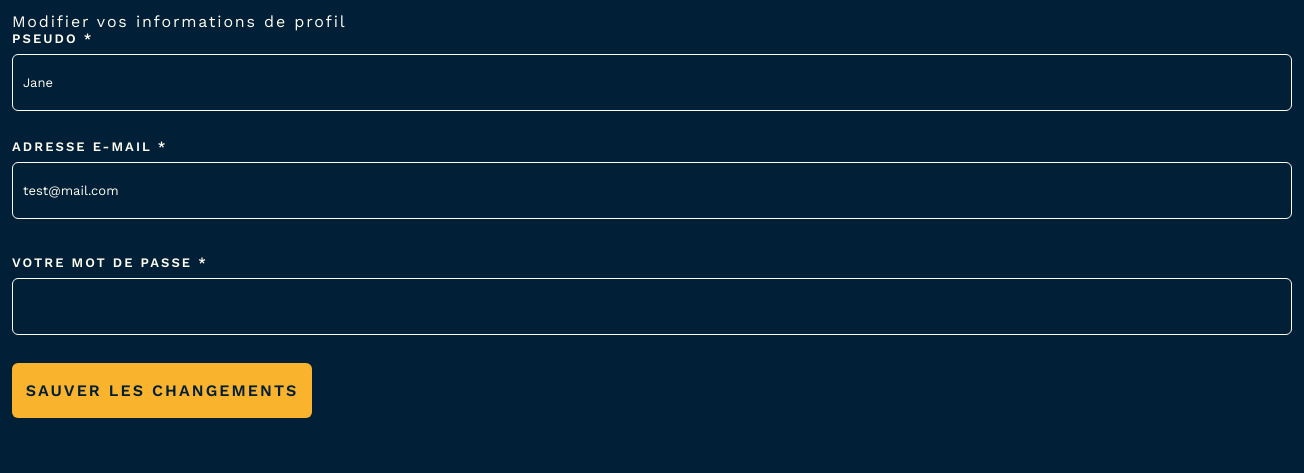
Test: UpdateProfileForm component tests › should set password error if password is incorrect
The width and height of the screenshot is (1304, 473).
Replace the text in the field labelled "Pseudo *" with "Barbie": [652, 82] box [12,54,1292,111]
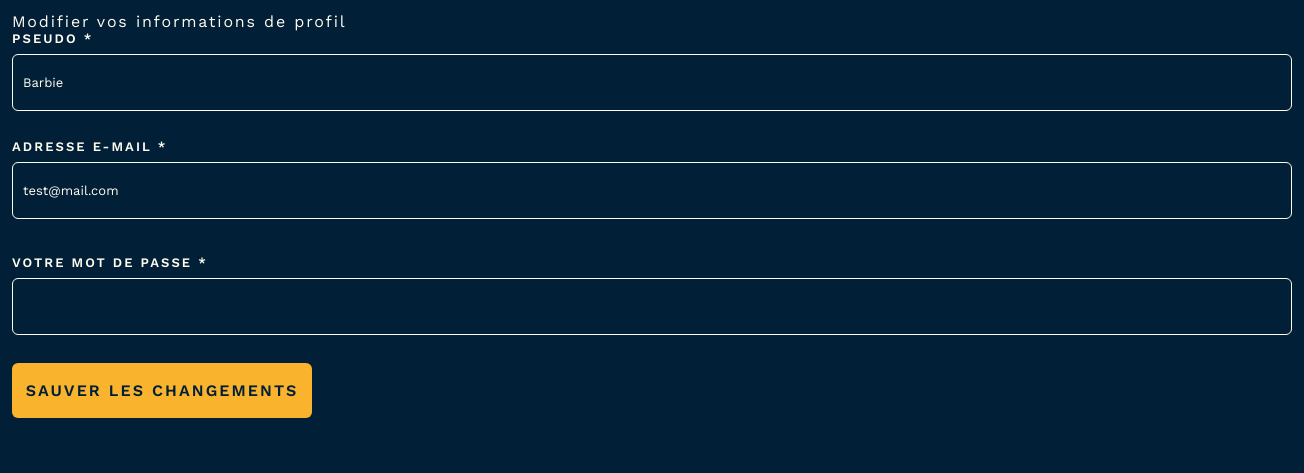
Replace the text in the field labelled "Adresse e-mail *" with "barbie@test.fr": [652, 190] box [12,162,1292,219]
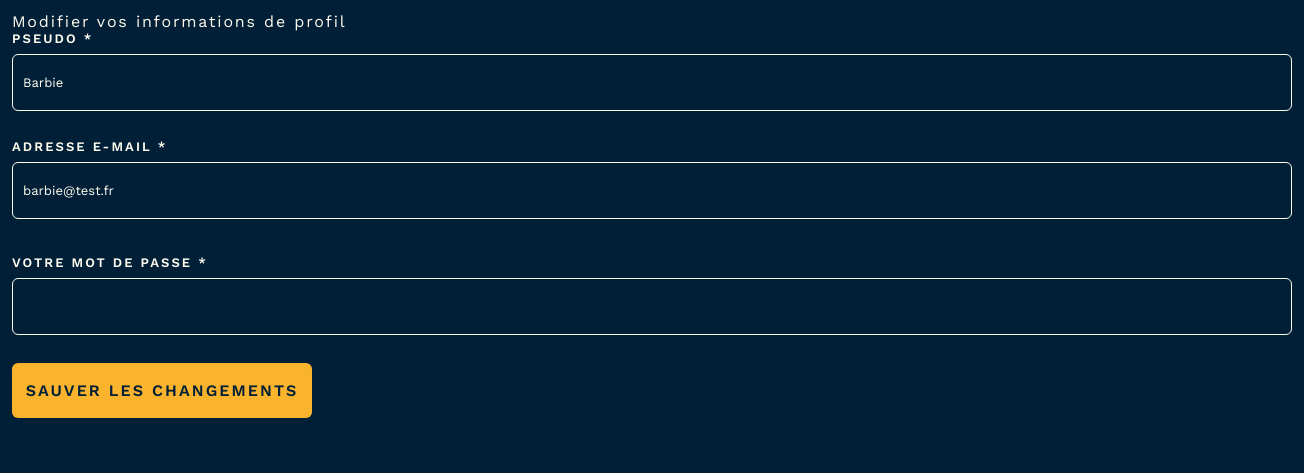
In the password field labelled "Votre mot de passe *": [652, 306] box [12,278,1292,335], type "wrongpass"
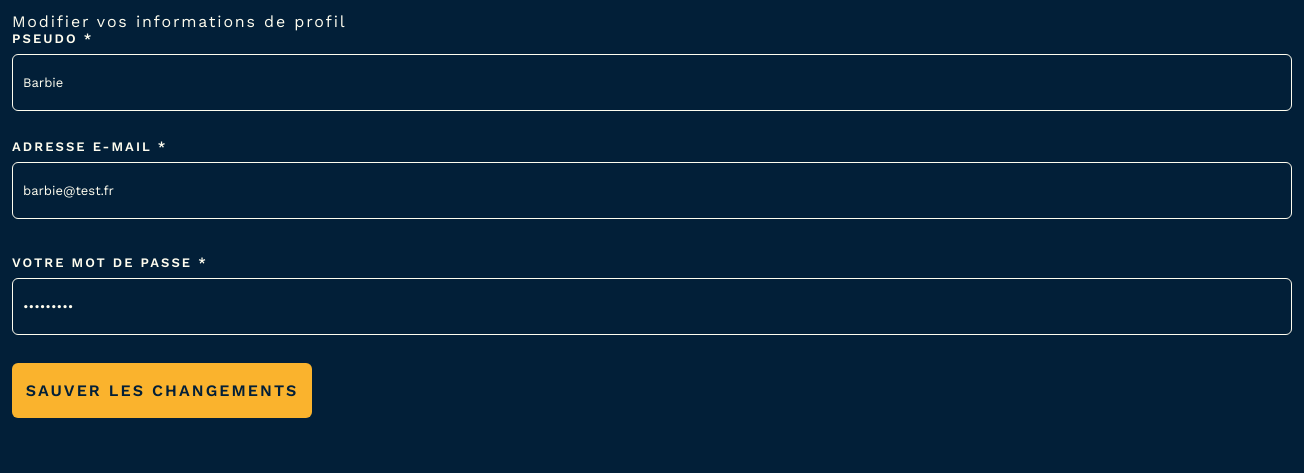
Click the button "Sauver les changements": [162, 390] box [12,363,312,418]
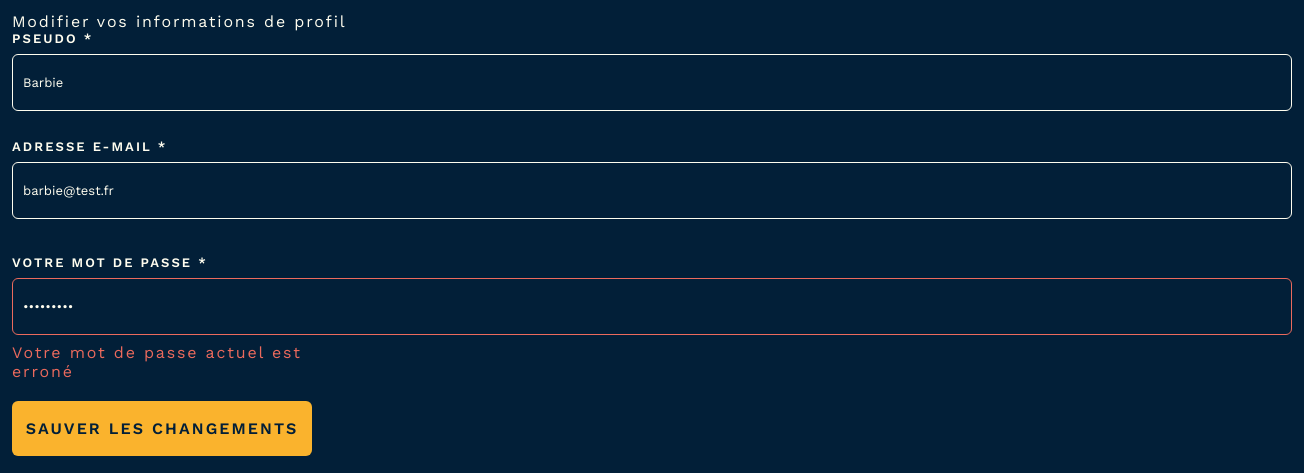
Expected: the text "Votre mot de passe actuel est erroné" is shown, [12,343,312,381]
